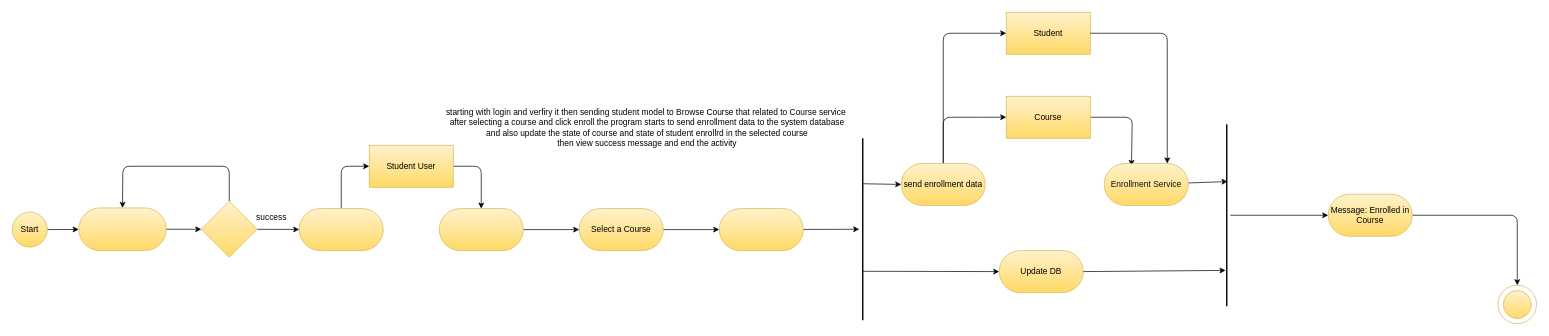
The diagram is 1549 pixels wide and 336 high, and some of its shapes have lost their labels. Each missing label, with the centre of its shape:
"Browse Course" goes at [481,229].
"Click Enroll" goes at [761,229].
"End" goes at [1517,304].
"Login" goes at [122,229].
"Verify User" goes at [341,229].
